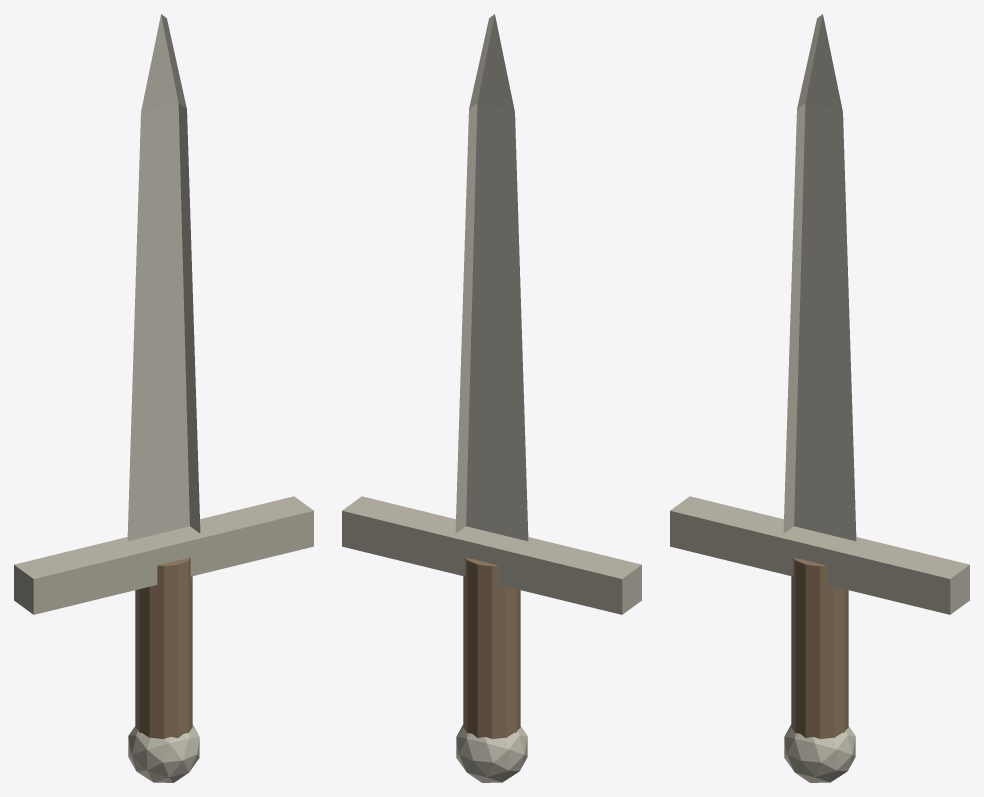
File: bone_shortsword.glb
The picture shows the model from 3 angles, left to right: view 1: azimuth 30°, elevation 25°; view 2: azimuth 150°, elevation 25°; view 3: azimuth 330°, elevation 25°; orthographic projection.
Parts seen in each view (by area): view 1: sword_0_0, sword_0_1, sword_0_2, sword_0_3; view 2: sword_0_0, sword_0_1, sword_0_2, sword_0_3; view 3: sword_0_0, sword_0_1, sword_0_2, sword_0_3.
Boxes of the visible parts, x1,y1,x2,y2 form: sword_0_0: [127, 14, 200, 541]; sword_0_1: [14, 496, 313, 614]; sword_0_2: [135, 557, 192, 739]; sword_0_3: [128, 724, 199, 782]; sword_0_0: [455, 14, 528, 541]; sword_0_1: [342, 496, 641, 614]; sword_0_2: [463, 557, 520, 739]; sword_0_3: [456, 724, 527, 782]; sword_0_0: [783, 14, 856, 541]; sword_0_1: [670, 496, 969, 614]; sword_0_2: [791, 557, 848, 739]; sword_0_3: [784, 724, 855, 782].
Size of the model in its own units: 1.47 by 3.84 by 0.3416.
